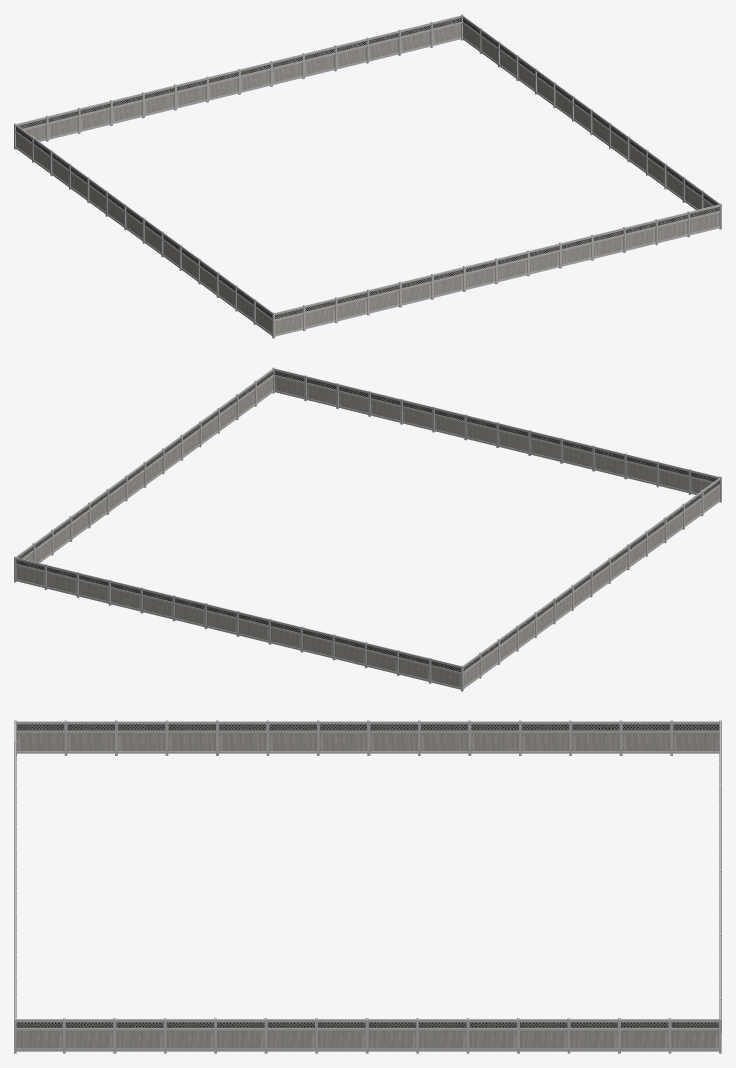
Rendered from full_flat_fence.obj.
3 views of the same model, one above another, from view 1: azimuth 30°, elevation 25°; view 2: azimuth 150°, elevation 25°; view 3: azimuth 270°, elevation 25° (orthographic). The views are drawn at different scales.
Visible parts, largest first — view 1: Plane.001, F_M1_Top_Support.003, F_M1_Post_02.009; view 2: Plane.001, F_M1_Top_Support.003, F_M1_Post_02.009; view 3: Plane.001, F_M1_Top_Support.003, F_M1_Post_02.009.
Boxes of the visible parts, bbox=[...] form: Plane.001: bbox=[16, 18, 719, 334]; F_M1_Top_Support.003: bbox=[15, 15, 719, 336]; F_M1_Post_02.009: bbox=[14, 14, 721, 338]; Plane.001: bbox=[16, 371, 719, 687]; F_M1_Top_Support.003: bbox=[16, 368, 720, 689]; F_M1_Post_02.009: bbox=[14, 367, 721, 691]; Plane.001: bbox=[16, 724, 719, 1048]; F_M1_Top_Support.003: bbox=[14, 721, 721, 1051]; F_M1_Post_02.009: bbox=[14, 720, 721, 1053].
Size of the model in its own units: 1 by 0.0542 by 1.
